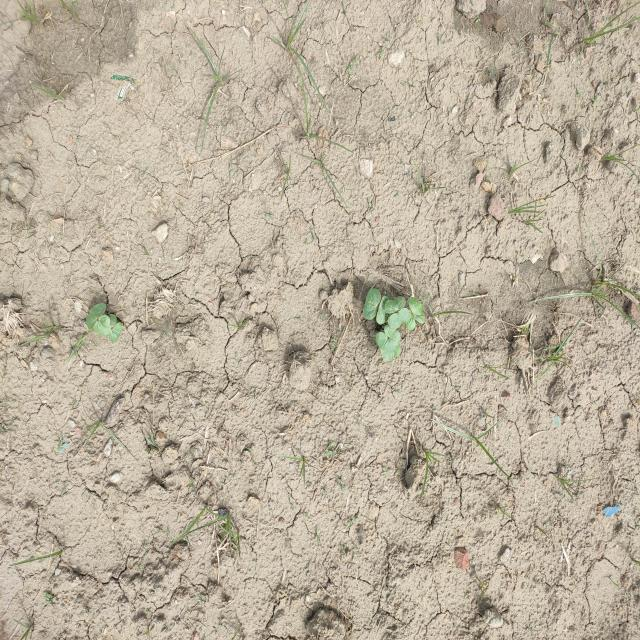seedling: (363, 288, 381, 320), (86, 303, 106, 330), (388, 308, 411, 329), (376, 332, 395, 354), (376, 296, 390, 324), (384, 296, 406, 313), (101, 314, 117, 335), (93, 315, 110, 334), (384, 324, 401, 342), (109, 322, 123, 342), (409, 296, 422, 315), (380, 349, 394, 362), (406, 313, 415, 330), (413, 311, 425, 323), (394, 343, 401, 356)
